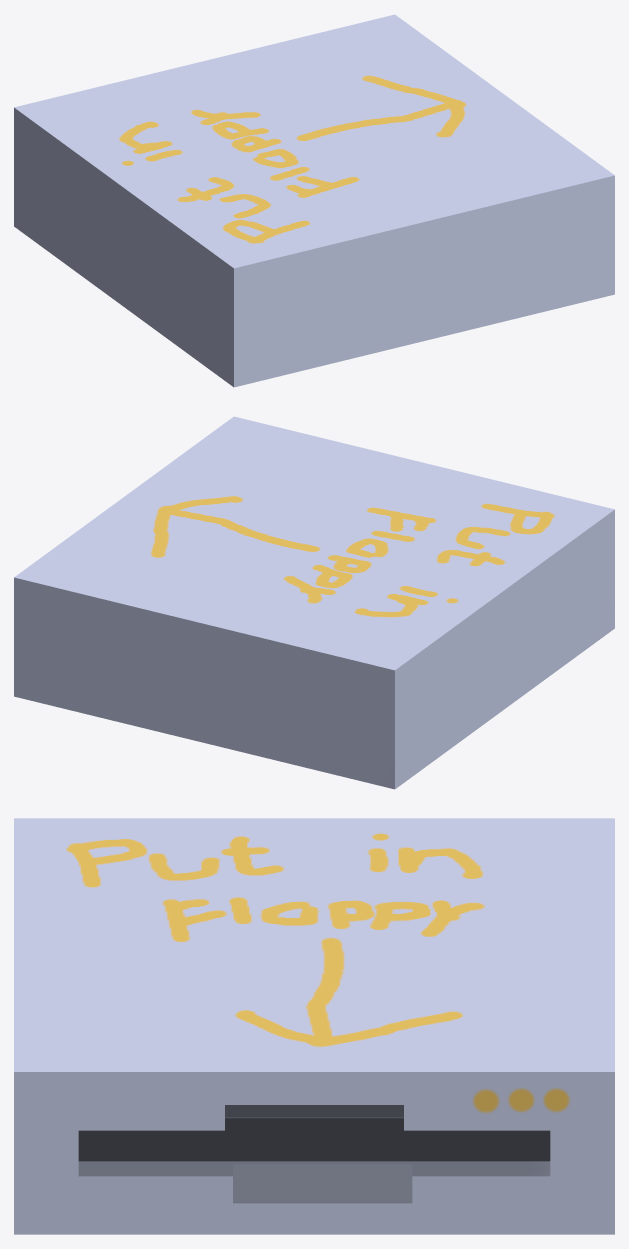
Rendered from FloppyCartridge.glb.
3 renders of one model, top to bottom at view 1: azimuth 30°, elevation 25°; view 2: azimuth 150°, elevation 25°; view 3: azimuth 270°, elevation 25°, orthographic. The views are drawn at different scales.
Parts seen in each view (by area): view 1: Cube; view 2: Cube; view 3: Cube.
Part boxes in pixels (left/top/right/bottom): Cube: left=14, top=14, right=614, bottom=387; Cube: left=14, top=416, right=614, bottom=789; Cube: left=14, top=818, right=614, bottom=1234.
Bounding box in the file's own units: 2 × 0.5973 × 2.
1 material, 1 textured.
